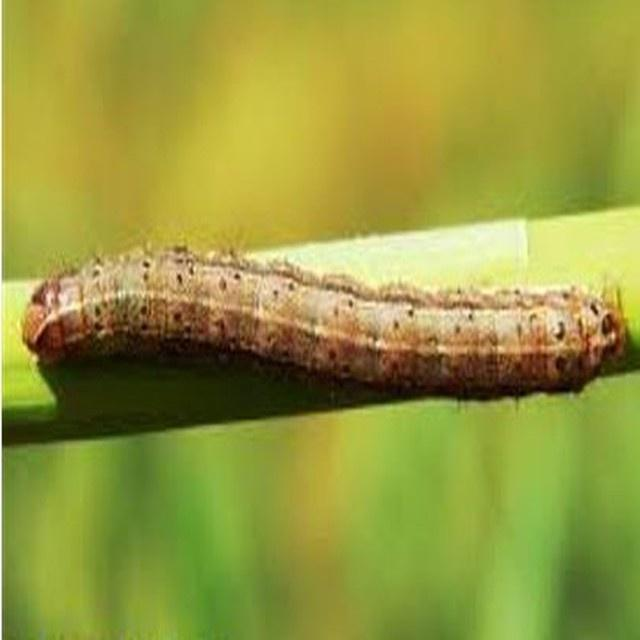gusano_cogollero: (19, 242, 628, 396)
